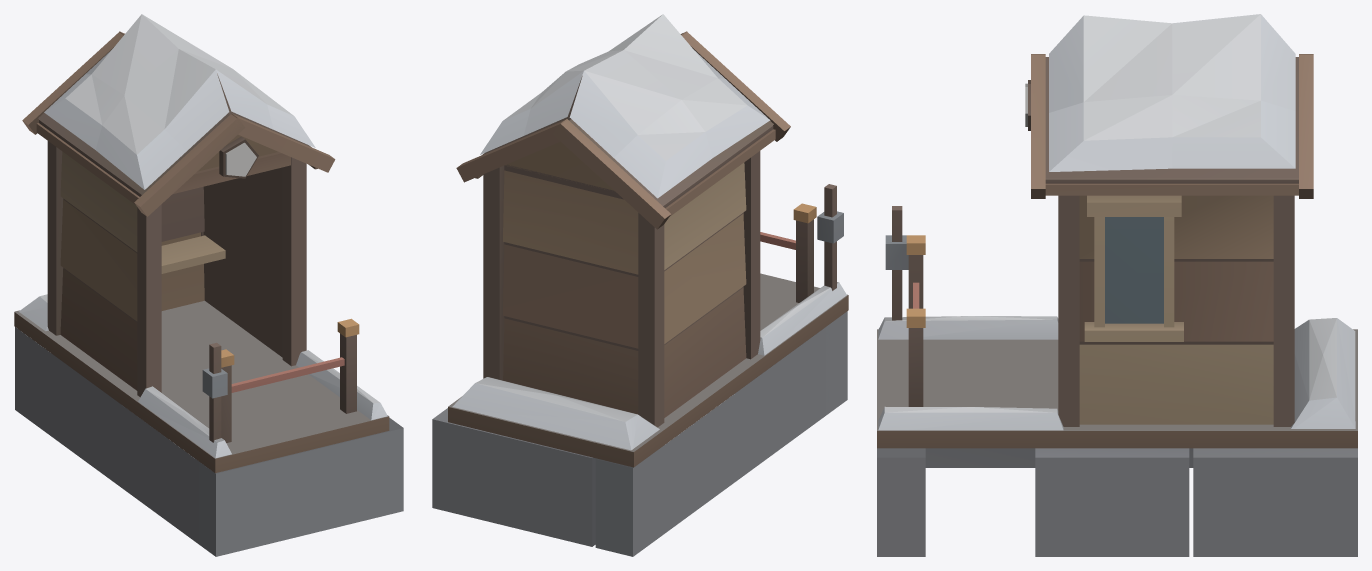
Rendered from starthut.lod1.glb.
3 views of the same model, side by side, from view 1: azimuth 30°, elevation 25°; view 2: azimuth 150°, elevation 25°; view 3: azimuth 270°, elevation 25° (orthographic). The views are drawn at different scales.
Bounding box in the file's own units: 2.61 × 5.06 × 4.56.
